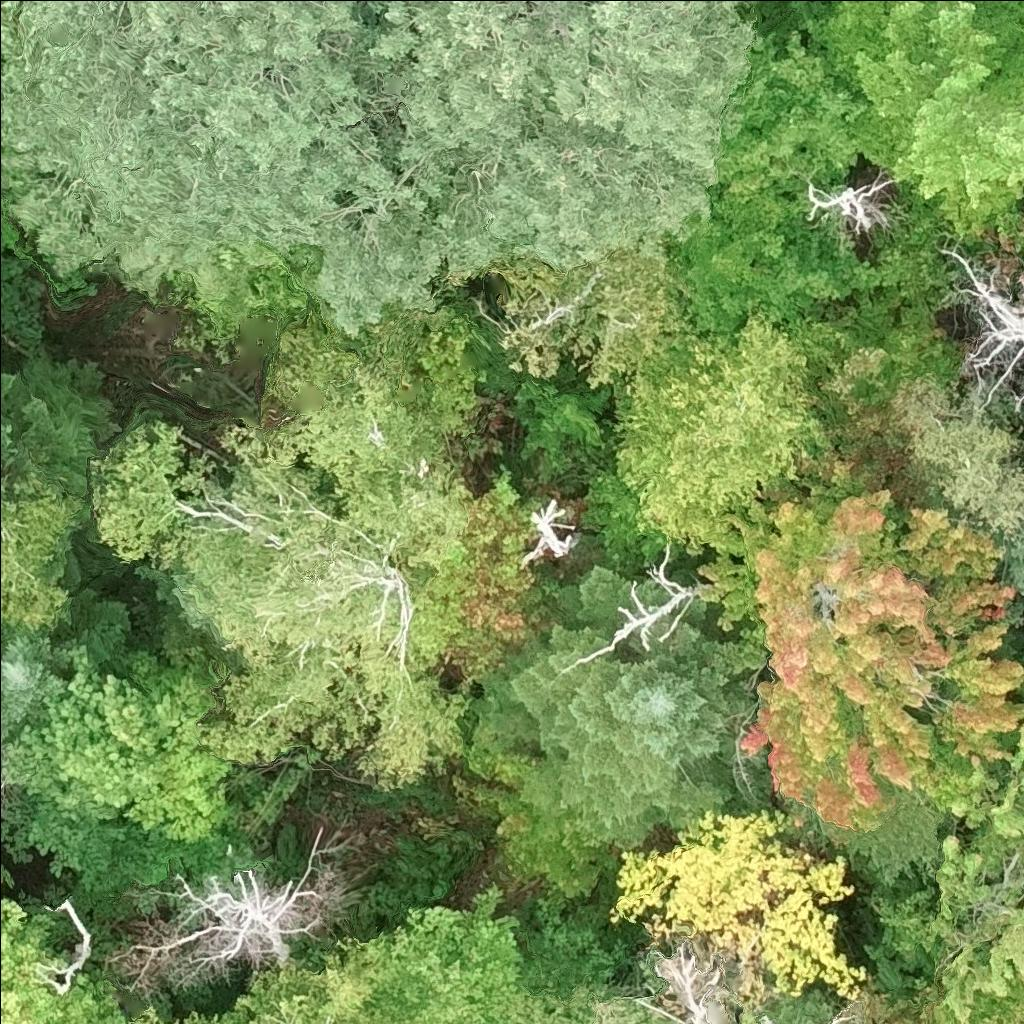crown: (0, 0, 760, 337), (91, 336, 480, 790), (702, 461, 1023, 833), (482, 566, 750, 845), (3, 649, 220, 889), (803, 0, 1023, 234), (611, 318, 826, 547), (858, 734, 1023, 1023), (618, 809, 868, 998), (123, 827, 339, 992), (670, 183, 887, 345), (501, 246, 694, 393), (372, 887, 573, 1023), (717, 28, 865, 192), (444, 486, 554, 691), (893, 383, 1023, 543), (934, 243, 1023, 418), (215, 937, 395, 1023), (0, 899, 123, 1023), (0, 479, 85, 634), (0, 633, 81, 739), (804, 166, 897, 233), (521, 496, 578, 566), (580, 996, 668, 1023), (945, 995, 1023, 1023), (0, 340, 18, 421), (127, 1008, 162, 1023), (0, 738, 7, 795), (187, 1016, 211, 1023)
